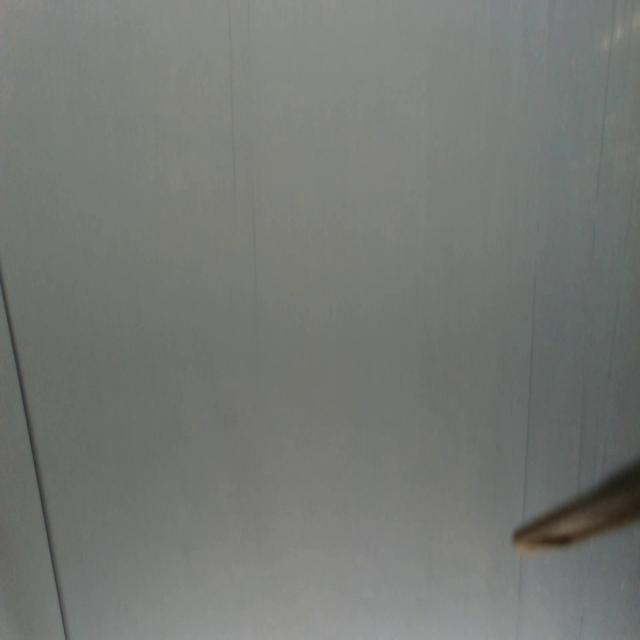crease: (0, 260, 68, 640), (575, 0, 617, 480), (521, 272, 538, 516), (226, 0, 238, 194)
